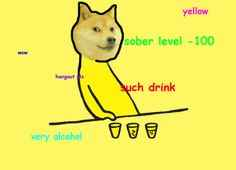doge: (70, 2, 123, 63)
